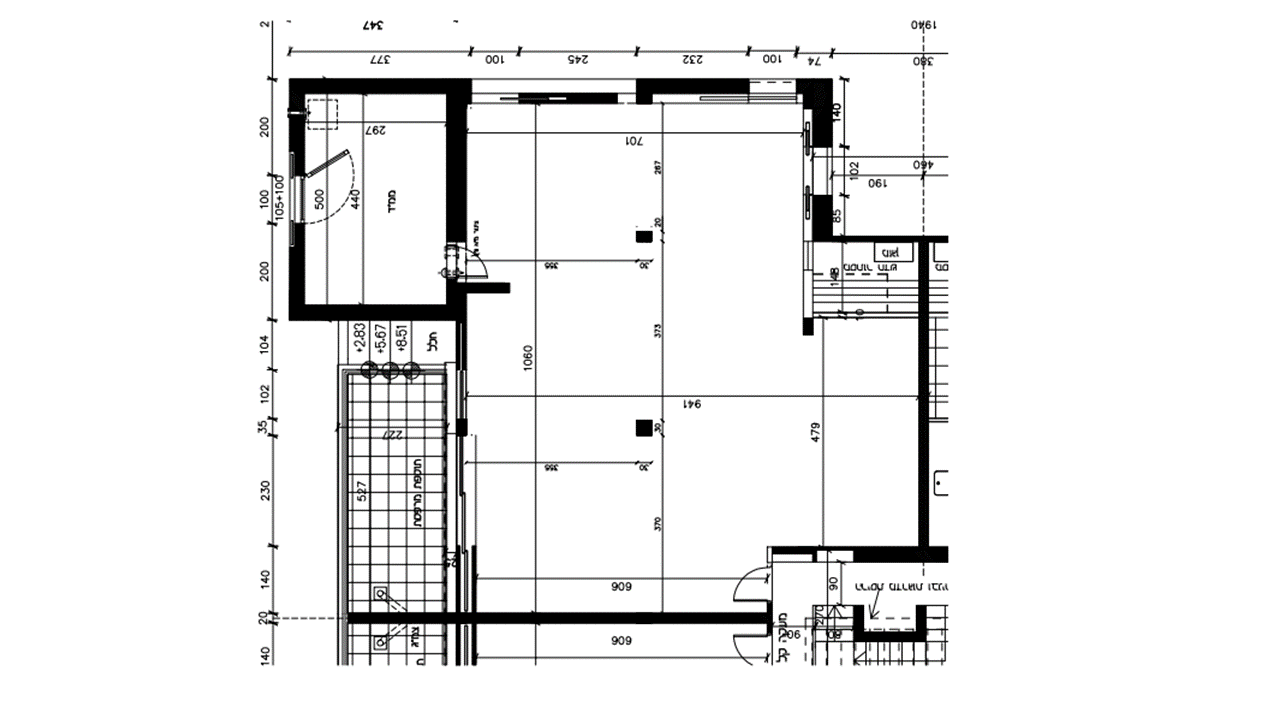door: (730, 565, 772, 604)
wall: (348, 613, 771, 623), (446, 94, 467, 241), (289, 304, 468, 321)
window: (803, 240, 813, 271)
